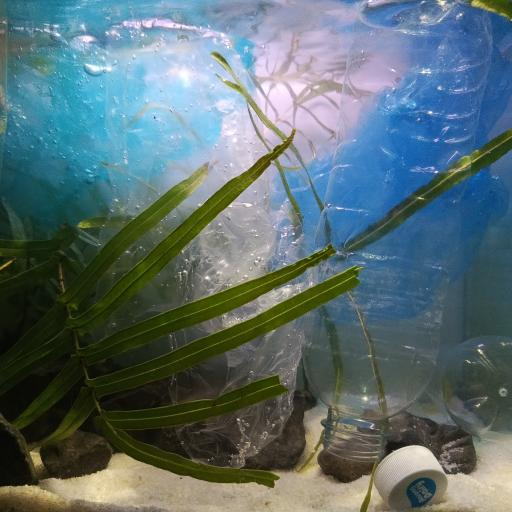bottle_cap: (376, 442, 444, 506)
plastic_bag: (2, 0, 330, 467), (269, 4, 512, 322), (2, 0, 264, 230)
plastic_bottle: (324, 0, 480, 452)
